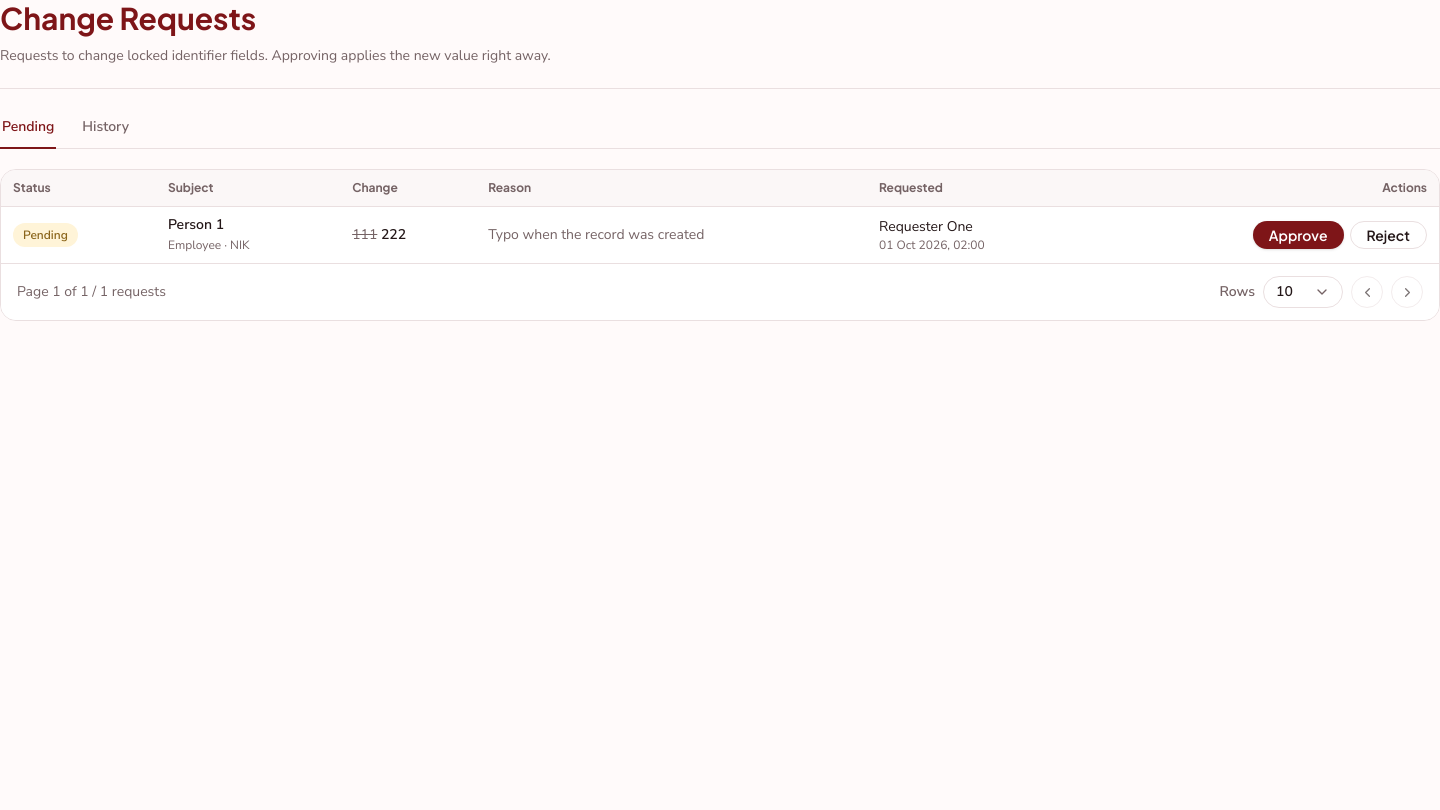
Test: ChangeRequestsPage › asks for History from the server and caps the note at 100 characters
Expected: the link "Person 1" is shown, [168, 215, 224, 234]
Click the button "Reject": (1388, 235) [1350, 221, 1427, 249]
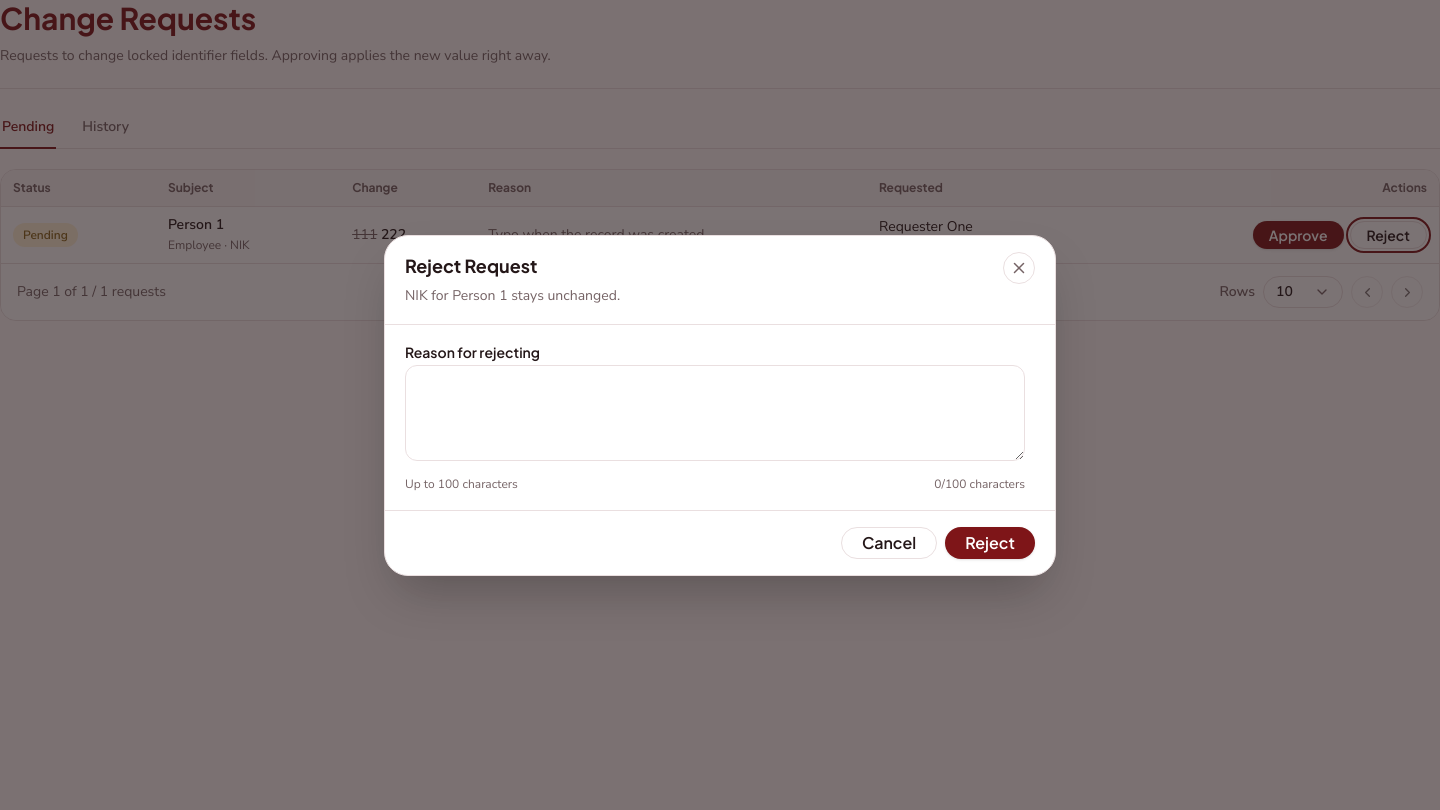
Click the button "Cancel": (889, 542) [841, 526, 937, 558]
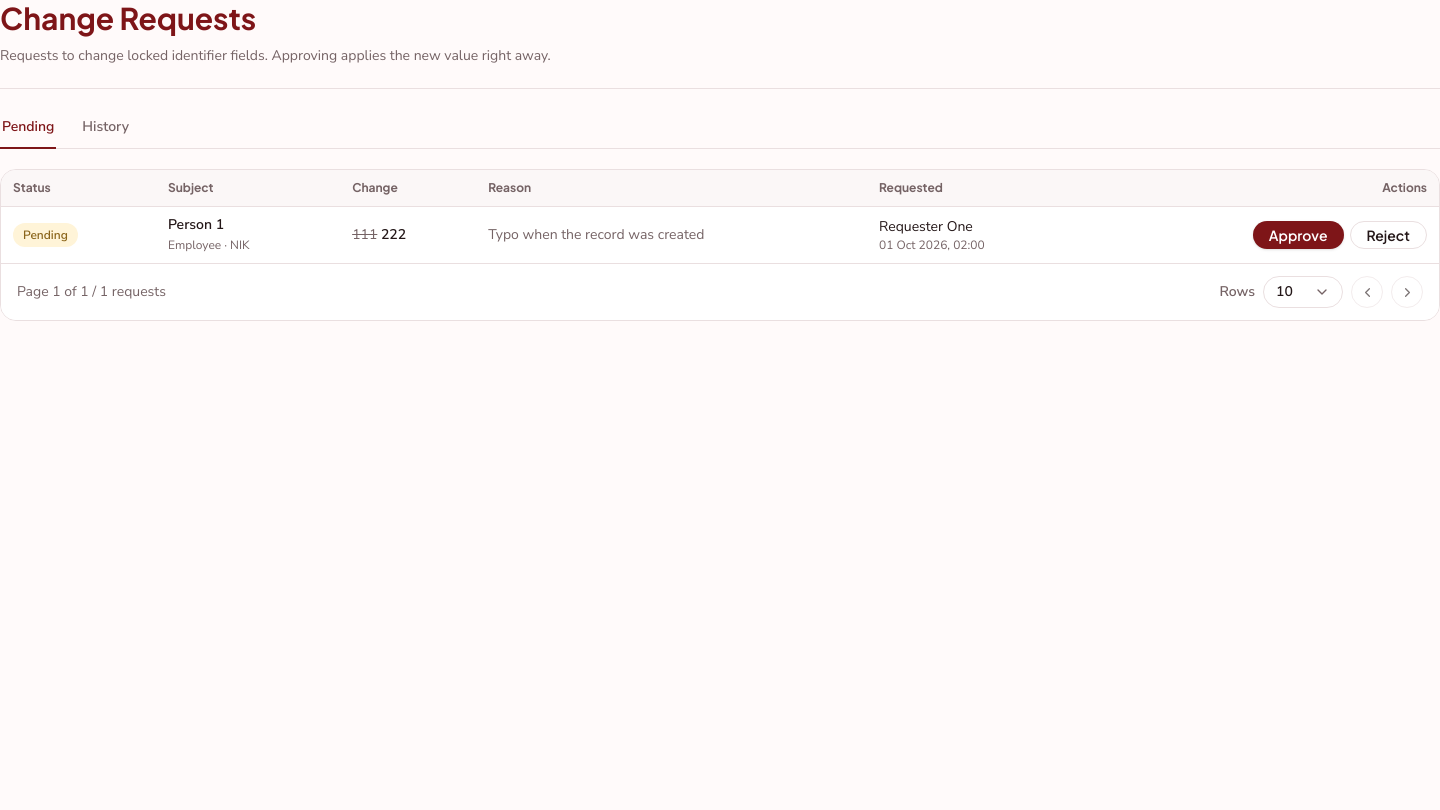
Click the tab "History": (106, 131) [80, 113, 131, 149]
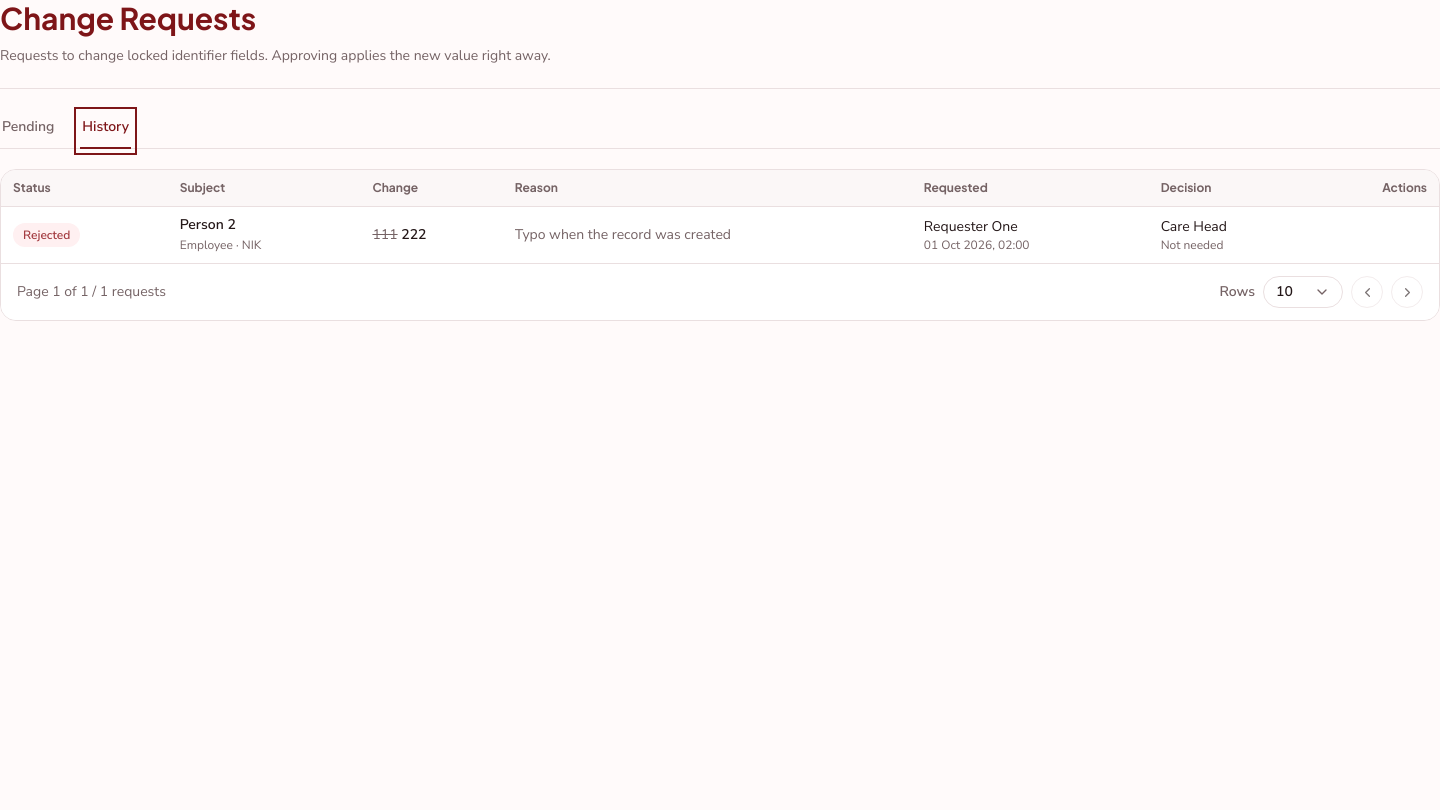
Now the link "Person 2" is shown, box [180, 215, 236, 234]
Now the text "Not needed" is shown, box [1161, 237, 1224, 253]
